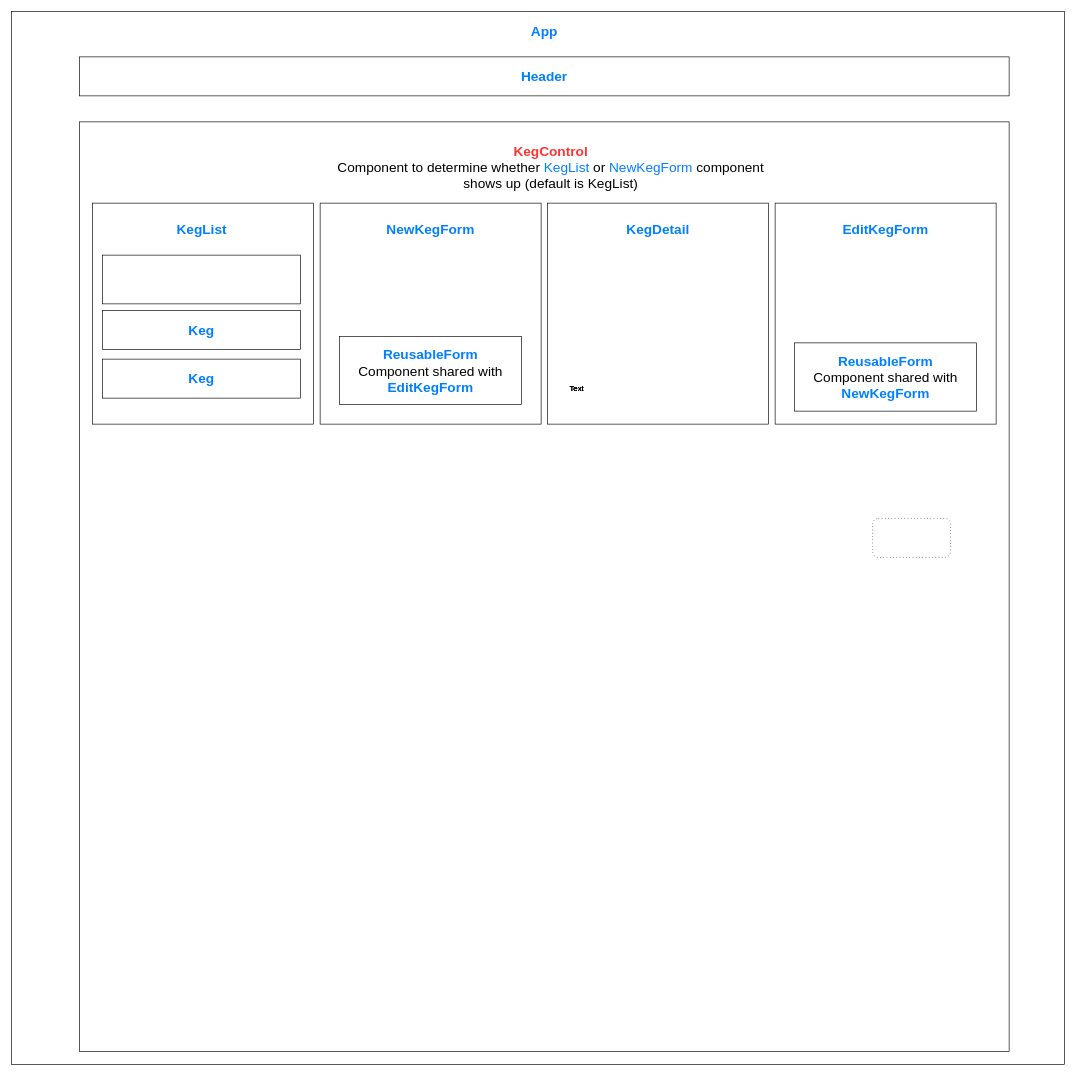
This 1076x1076 diagram has some shape labels left out. The centre of each missing label's shape, as x and y in pixels:
Keg Clicking on Keg will show Keg 's KegDetails Component: the point at 201,279
Stateful: the point at 911,537
